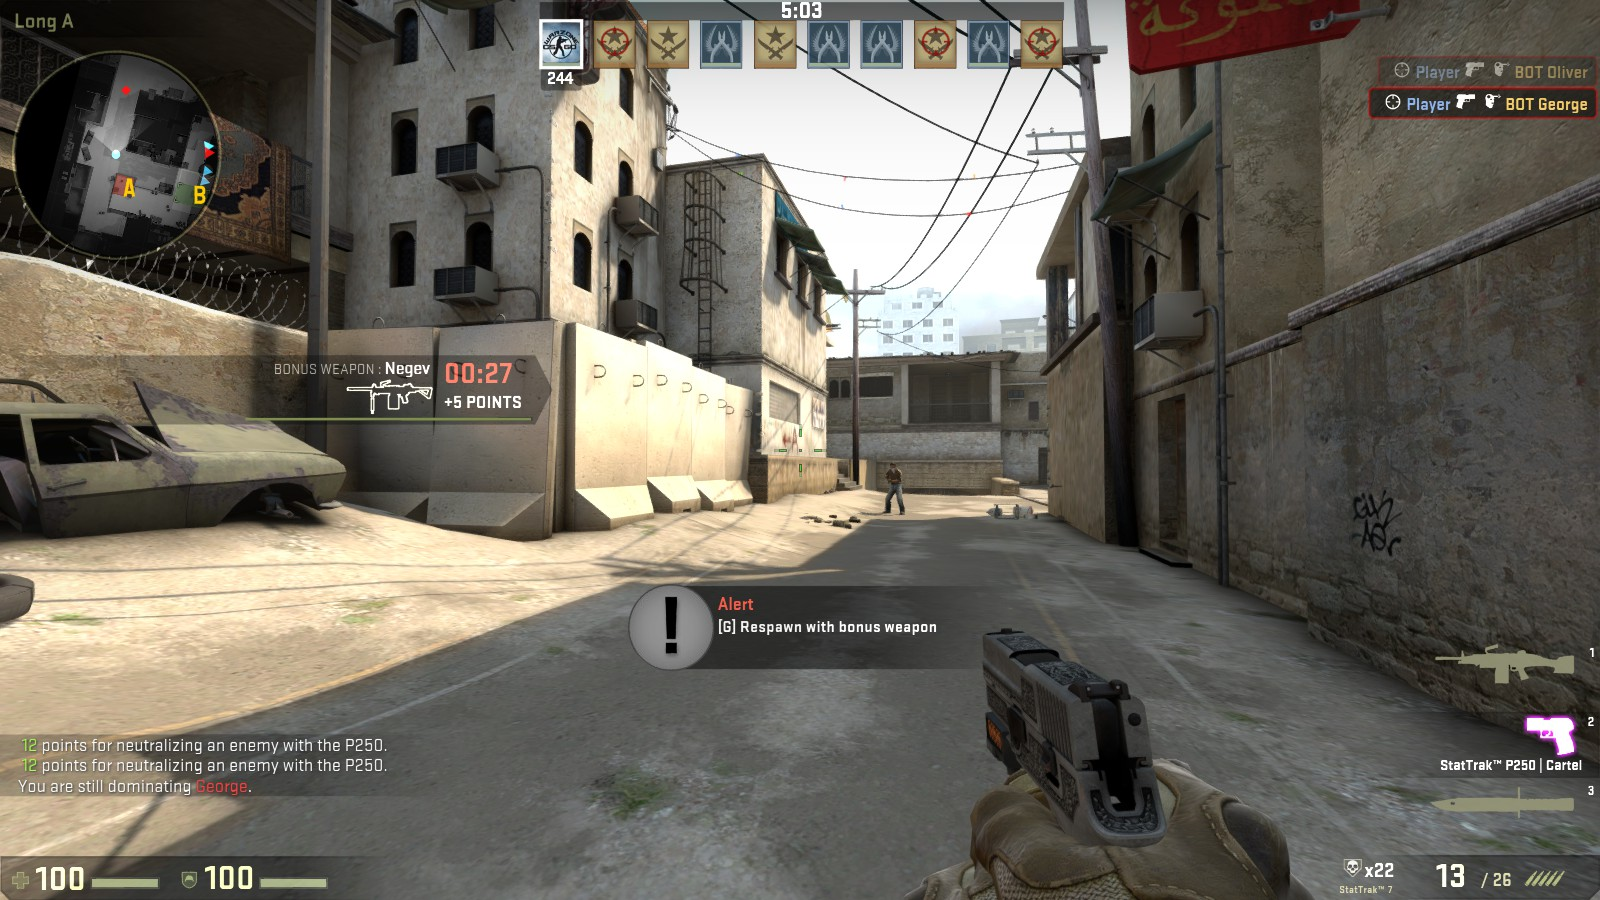t: (885, 462, 905, 515)
th: (889, 462, 897, 473)
